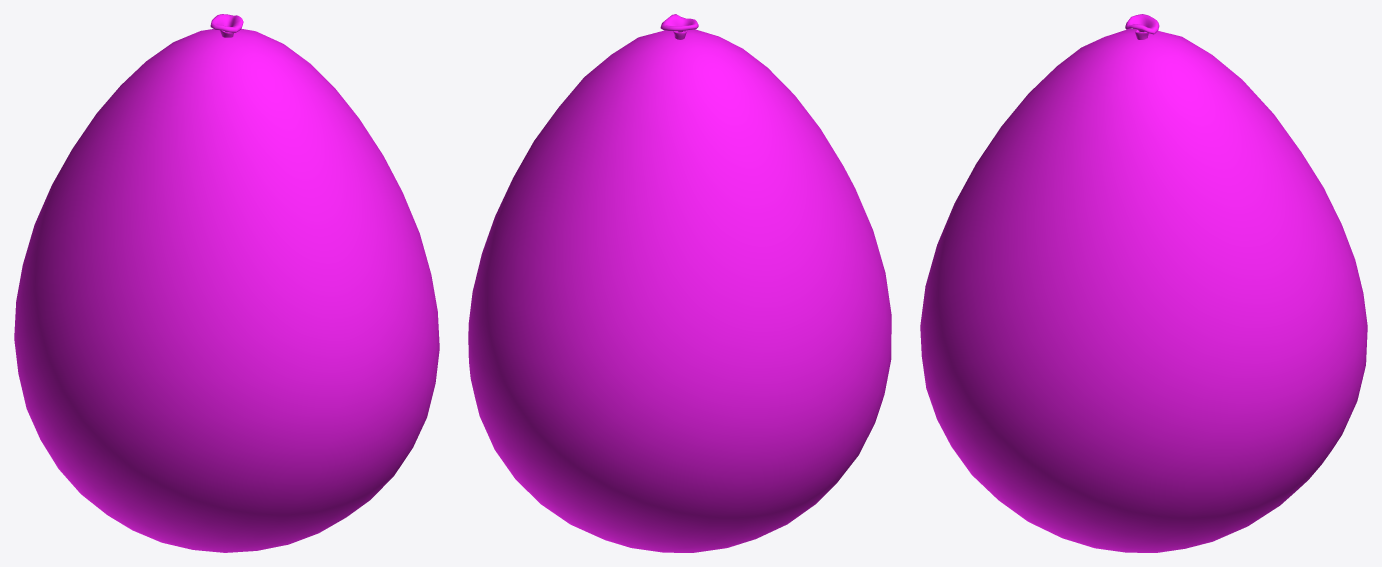
The model's file is ballon-stripped-centered-purple.obj.
The picture shows the model from 3 angles, left to right: view 1: azimuth 30°, elevation 25°; view 2: azimuth 150°, elevation 25°; view 3: azimuth 270°, elevation 25°; orthographic projection.
Visible parts, largest first — view 1: GeoSphere01, Line01; view 2: GeoSphere01, Line01; view 3: GeoSphere01, Line01.
Part boxes in pixels (x1=…): GeoSphere01: x1=14, y1=28, x2=439, y2=552; Line01: x1=210, y1=14, x2=243, y2=37; GeoSphere01: x1=468, y1=29, x2=891, y2=552; Line01: x1=660, y1=14, x2=698, y2=39; GeoSphere01: x1=920, y1=29, x2=1367, y2=552; Line01: x1=1125, y1=14, x2=1159, y2=39.
Bounding box in the file's own units: 98.45 × 133 × 105.
